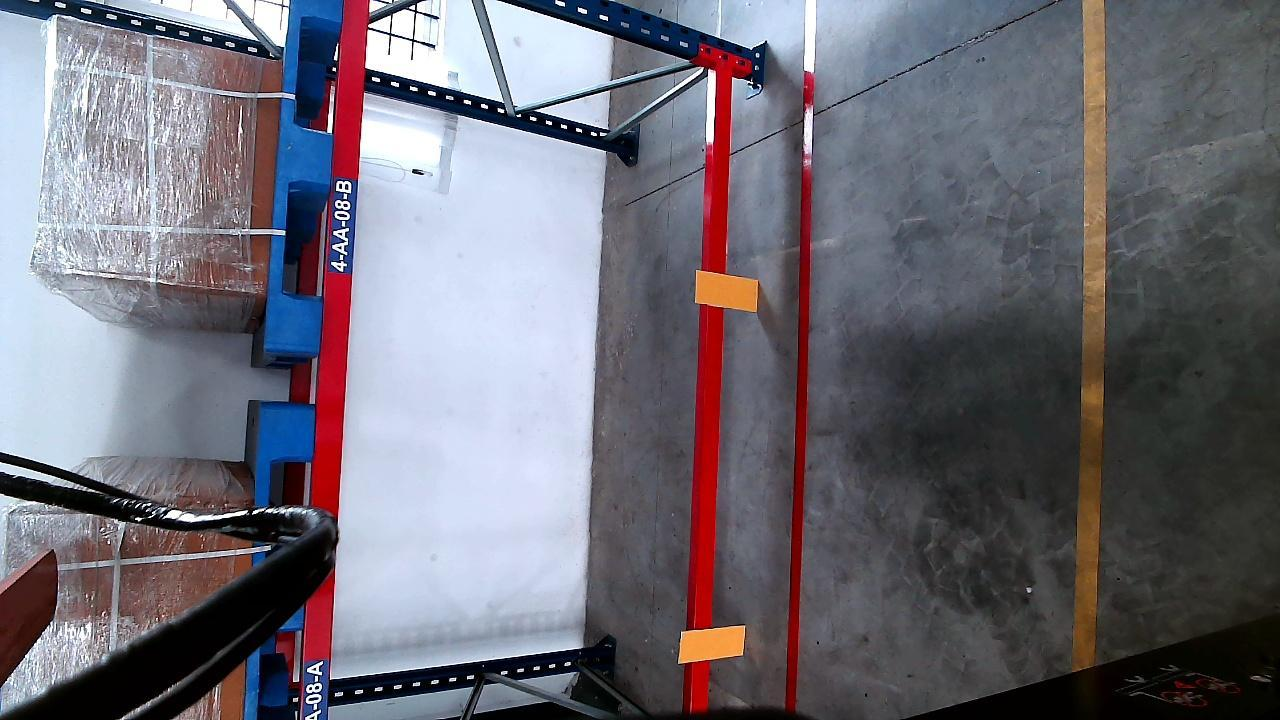red_line: (786, 0, 815, 708)
yellow_line: (1077, 0, 1103, 671)
